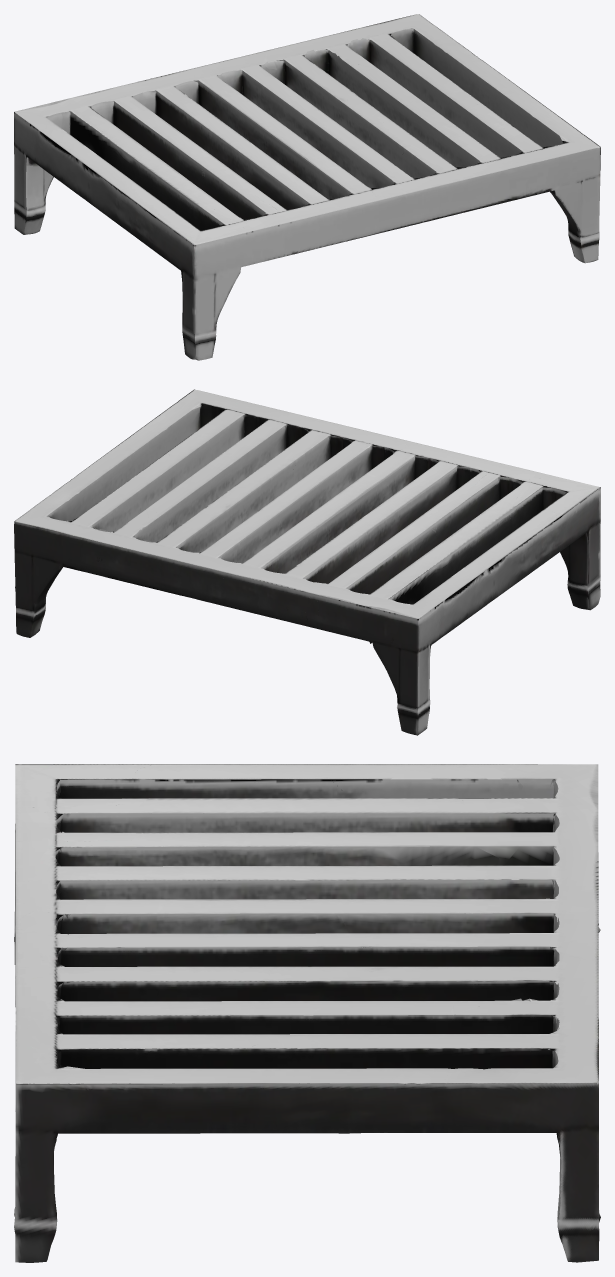
3 renders of one model, top to bottom at view 1: azimuth 30°, elevation 25°; view 2: azimuth 150°, elevation 25°; view 3: azimuth 270°, elevation 25°, orthographic. The views are drawn at different scales.
Size of the model in its own units: 0.9 by 0.25 by 0.7.
1 material, 1 textured.
